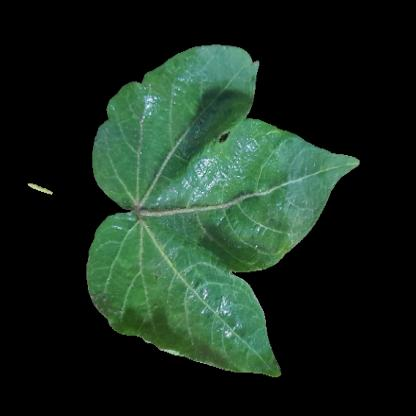healthy: (109, 232, 232, 329), (122, 117, 235, 206), (244, 123, 288, 259), (173, 56, 249, 119), (292, 143, 322, 222), (229, 332, 275, 376)
